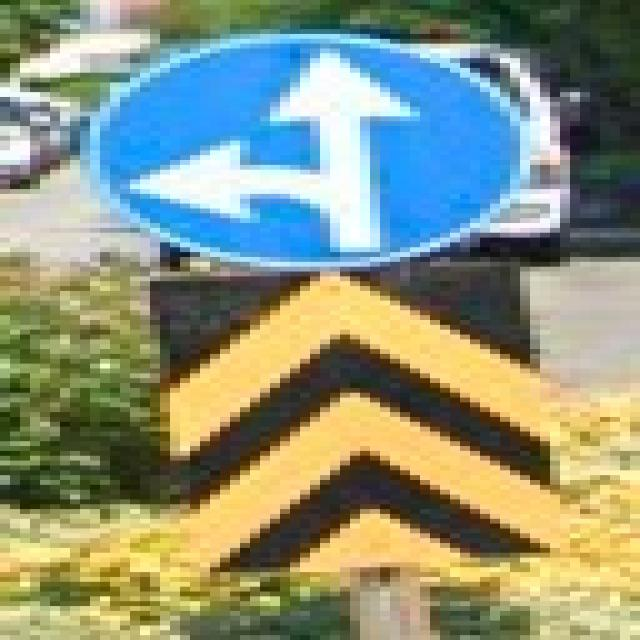Straight or Left: (86, 35, 526, 268)
